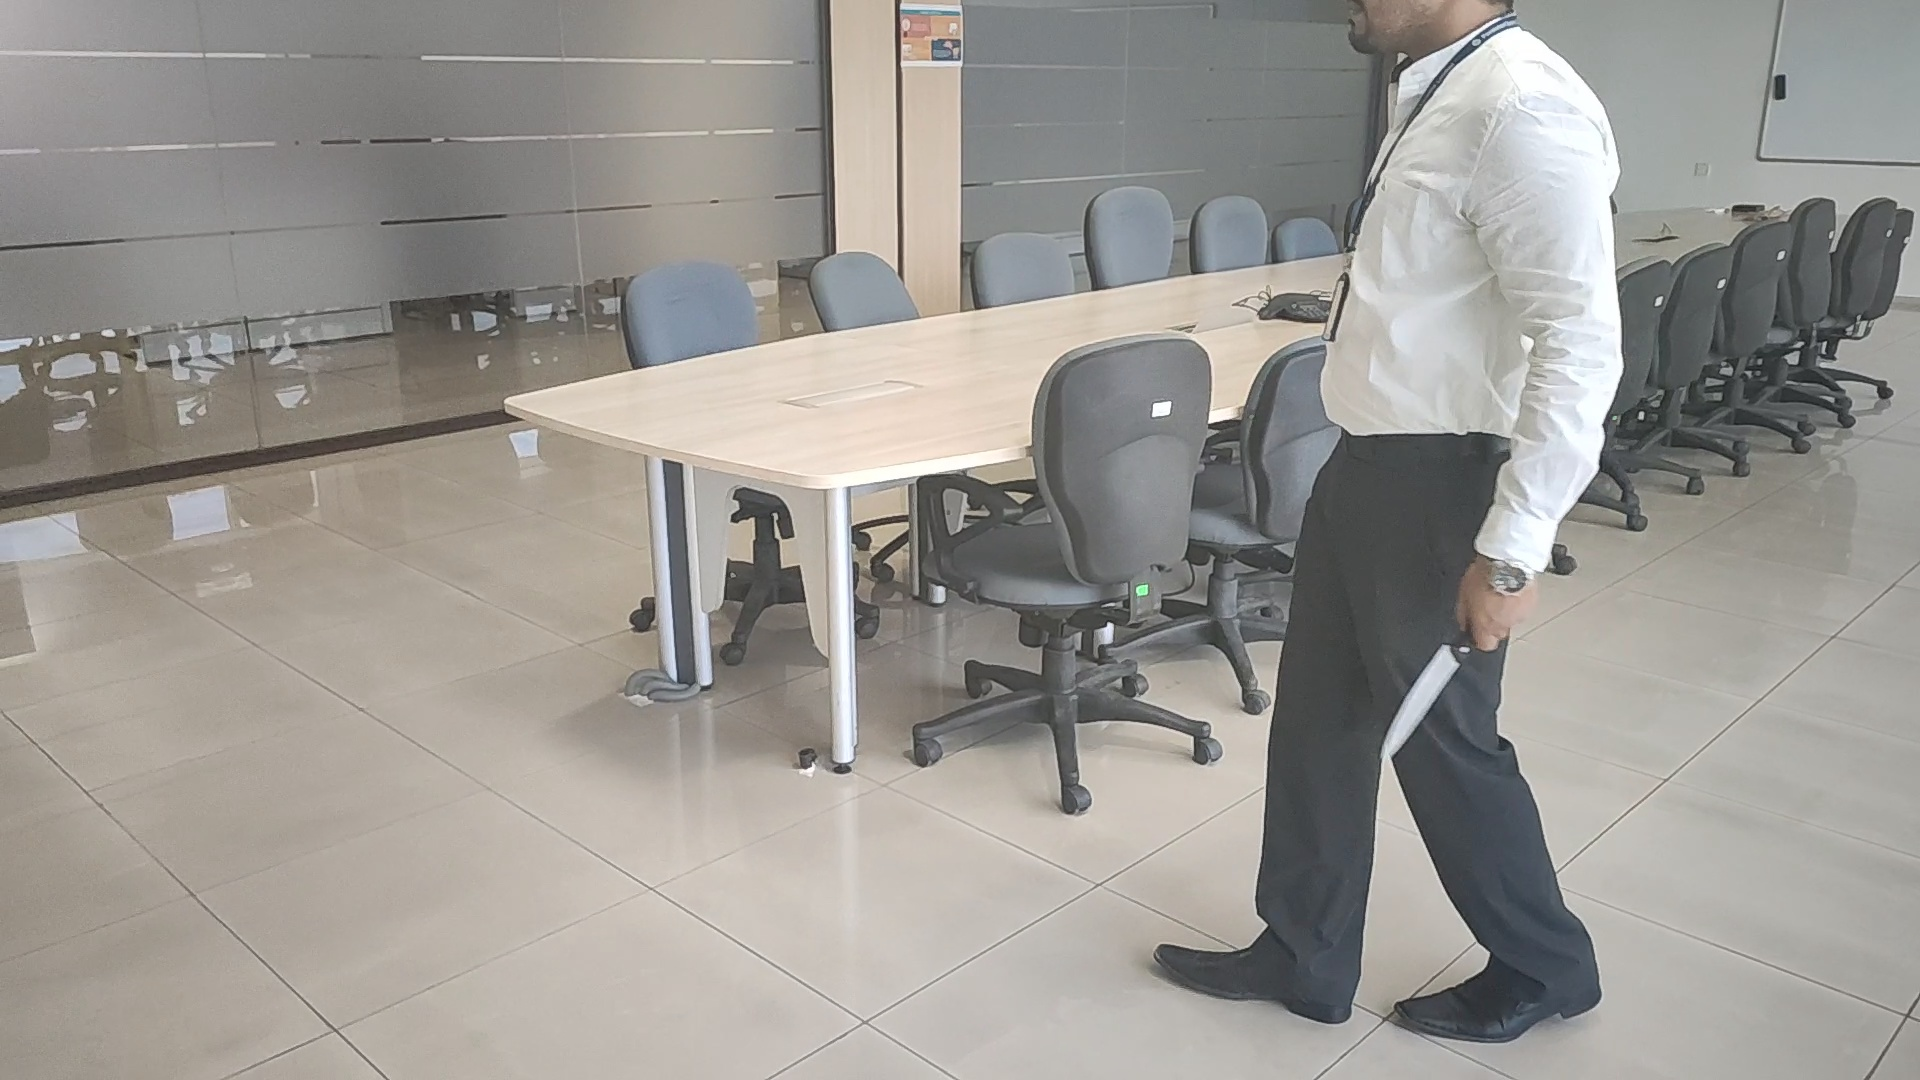knife: (1379, 655, 1445, 761)
